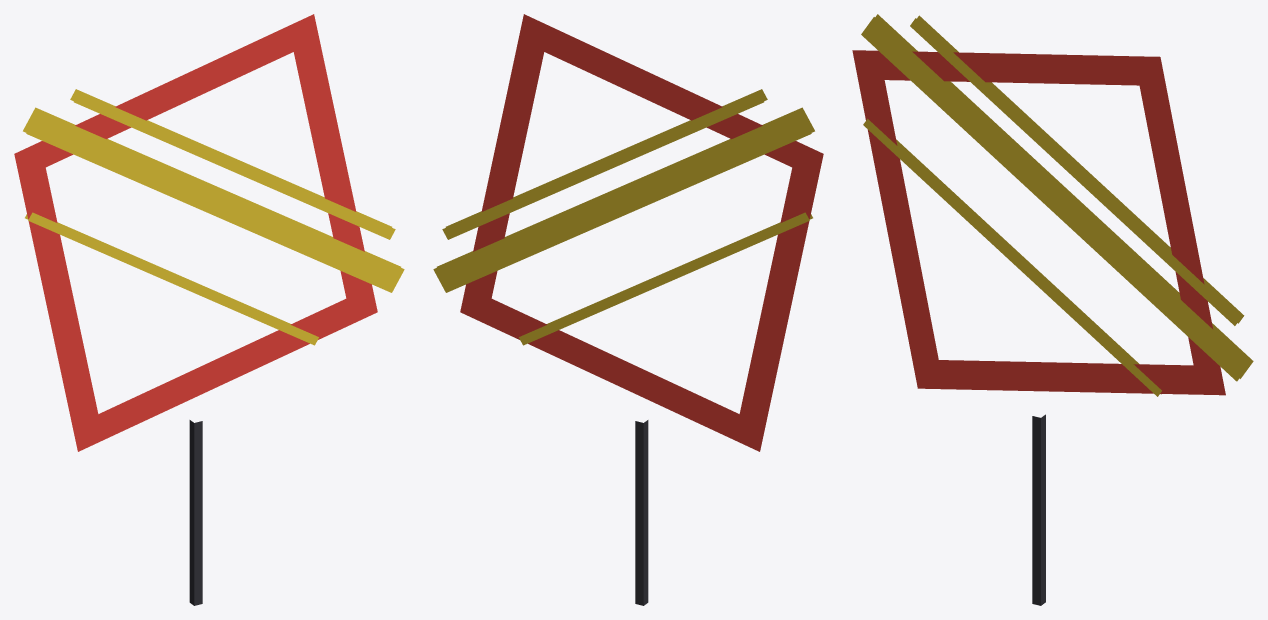
Rendered from shape_square.glb.
3 views of the same model, side by side, from view 1: azimuth 30°, elevation 25°; view 2: azimuth 150°, elevation 25°; view 3: azimuth 330°, elevation 25° (orthographic). The views are drawn at different scales.
Parts seen in each view (by area): view 1: root; view 2: root; view 3: root.
Boxes of the visible parts, box(x1,y1,x2,y2) form: root: box(14, 14, 404, 605); root: box(433, 14, 823, 605); root: box(852, 14, 1253, 605).
Bounding box in the file's own units: 6.6 × 9.08 × 0.14.
